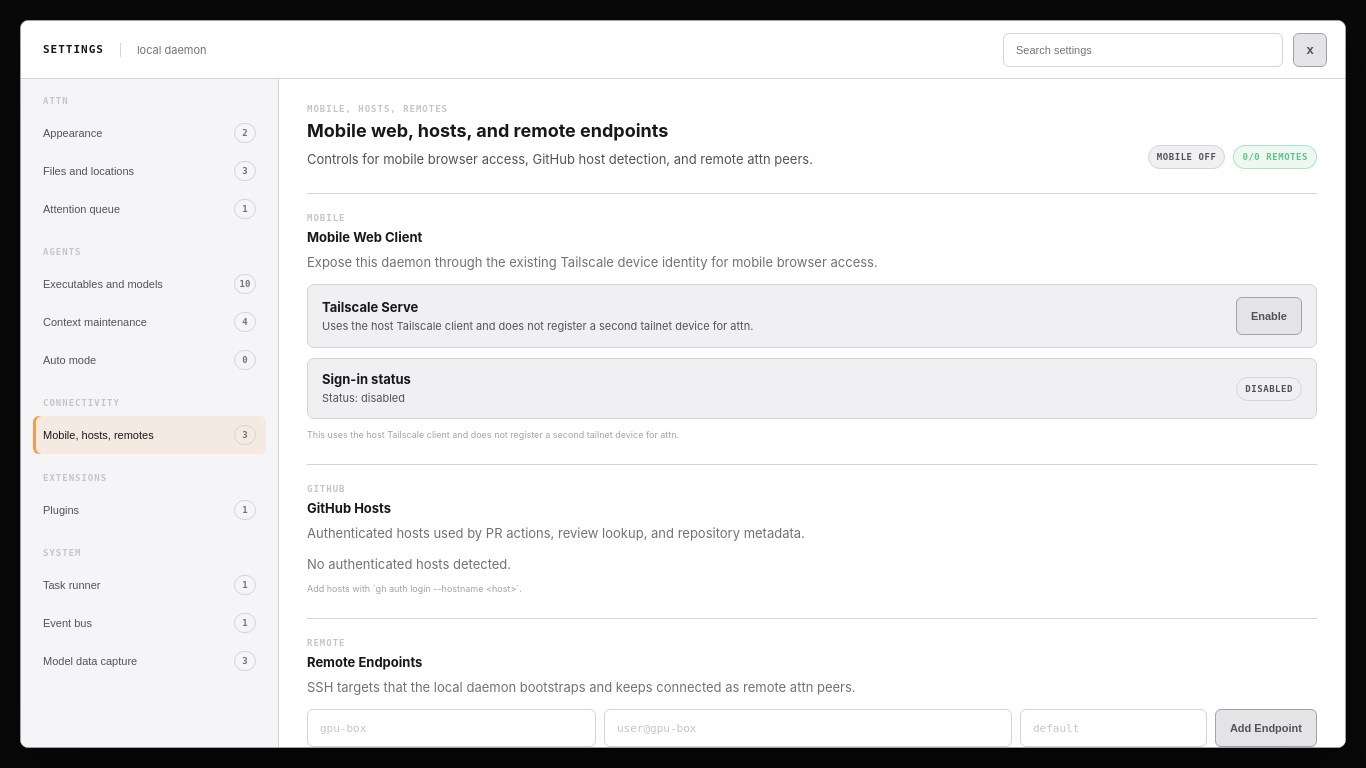
Test case: SettingsModal › preserves a configured custom keeper model for editing
Click the button with test id "settings-nav-keeper" at (150, 322), box [33,303,266,341]
(page scrolled)
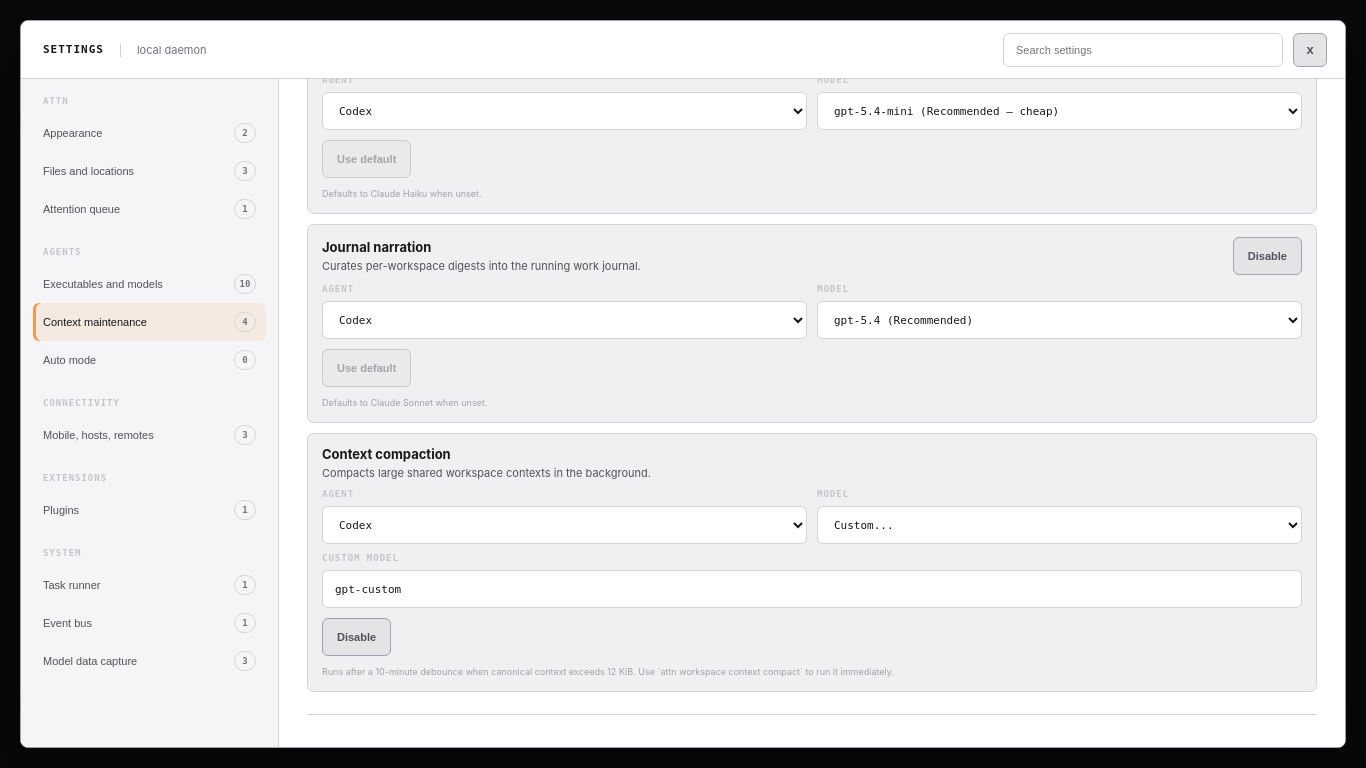
Now the dropdown with test id "settings-context-keeper-model" shows "Custom...", box [817,506,1302,544]
Now the field with test id "settings-context-keeper-model-custom" holds "gpt-custom", box [322,570,1302,608]
